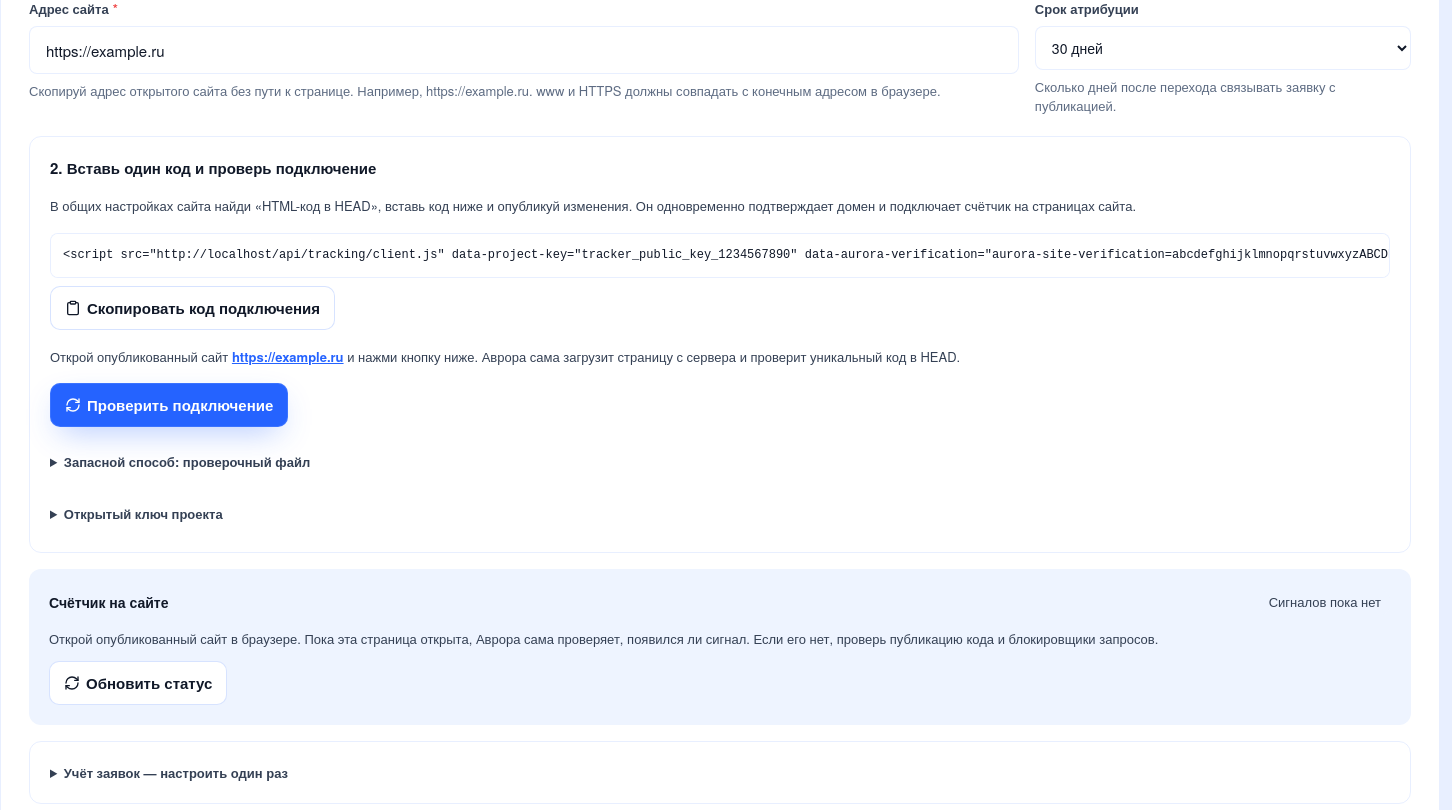
Test: tracking setup journey › does not let a delayed signal refresh overwrite successful verification
The image size is (1452, 810).
(page scrolled)
Click the button "Проверить подключение".
click(169, 405)  # box [50, 383, 288, 427]
(page scrolled)
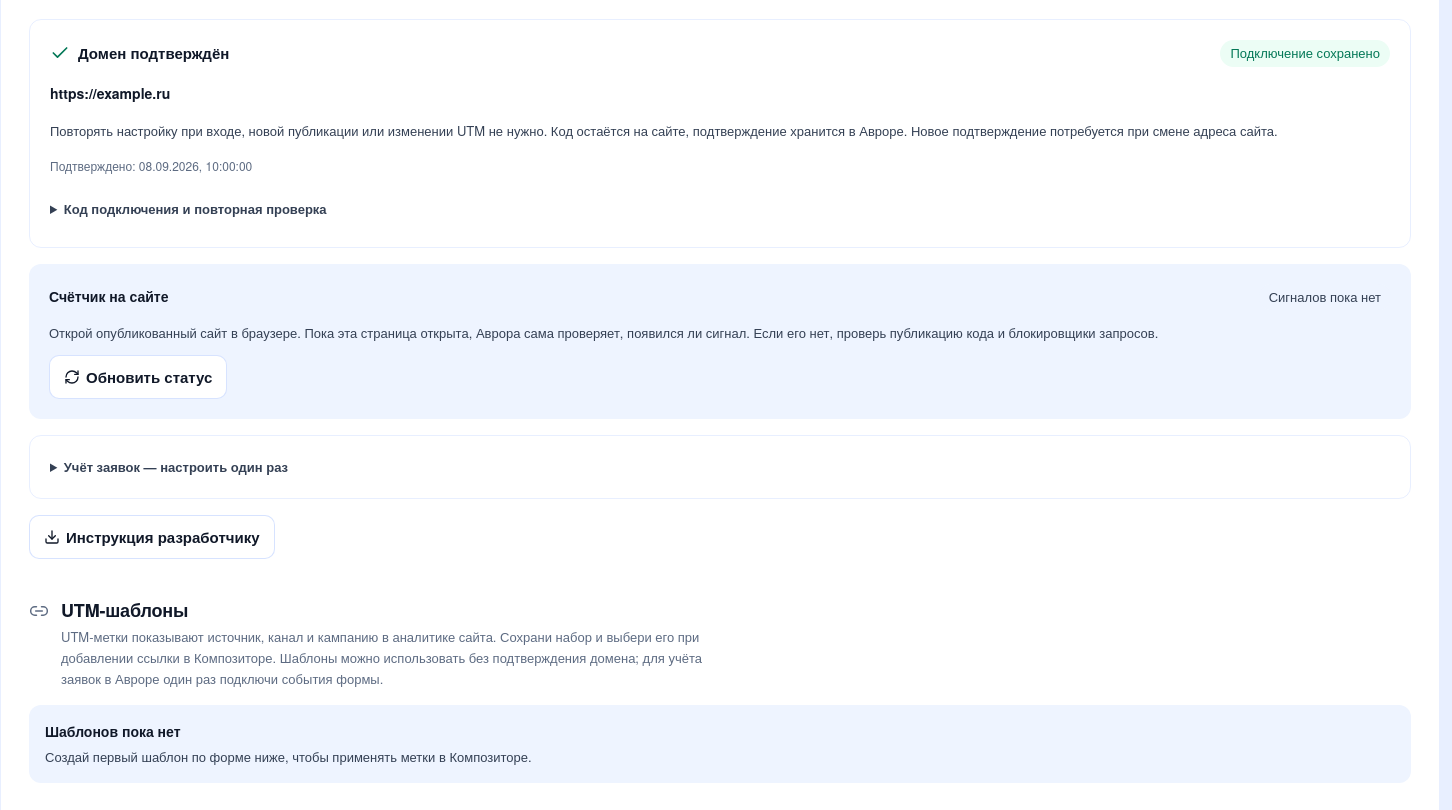
Check: the text "Подключение сохранено" is shown, box [1220, 40, 1390, 67]
Check: the button "Проверить подключение" is gone
